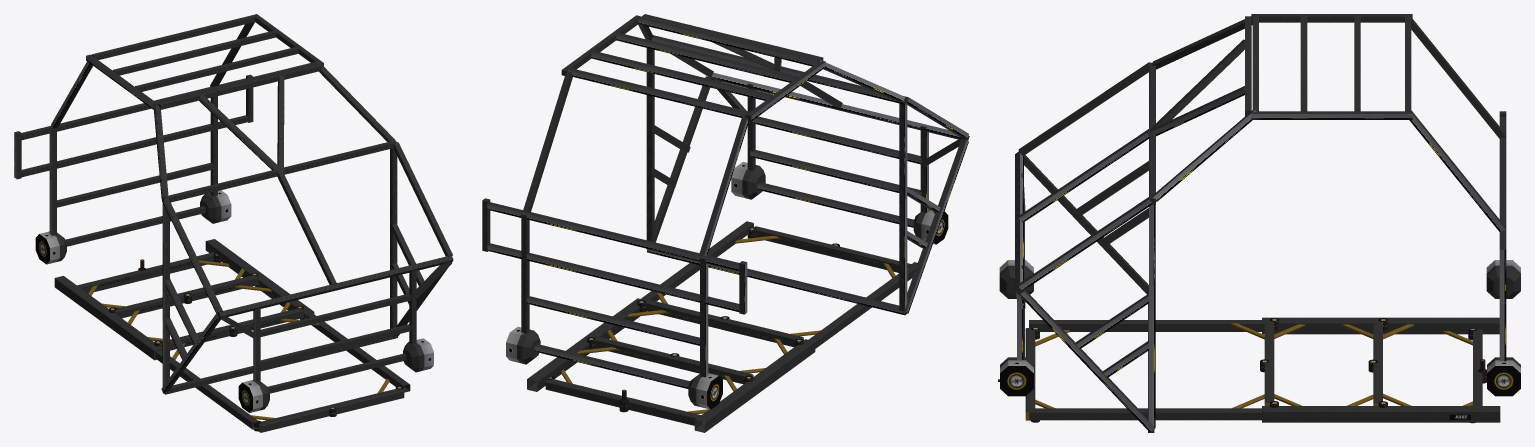
Rendered from protoV2.fbx.
The picture shows the model from 3 angles, left to right: view 1: azimuth 30°, elevation 25°; view 2: azimuth 150°, elevation 25°; view 3: azimuth 270°, elevation 25°; orthographic projection. The views are drawn at different scales.
Visible parts, largest first — view 1: pCube8 (×4), pCube7 (×4), pCube537 (×2), pCube6, pCube547, pCube576, pCube559, pCube5, pCube538 (×2), pCube558, pCube557, pCube550 (+29 smaller); view 2: pCube8 (×4), pCube7 (×4), pCube539 (×2), pCube6, pCube551, pCube559, pCube538 (×2), pCube550, pCube566, pCube547, pCube5, pCube535 (×2) (+25 smaller); view 3: pCube5, pCube6, pCube67, pCube537 (×2), pCube535 (×2), pCube539 (×2), pCube68, pCube540, pCube549, pCube583, pCube541, pCube15 (+17 smaller).
Part boxes in pixels (x1,y1,x2,y2): pCube8 (×4): (144,252,404,414); pCube7 (×4): (77,270,331,432); pCube537 (×2): (162,142,452,314); pCube6: (54,276,162,360); pCube547: (217,255,453,318); pCube576: (162,141,397,202); pCube559: (19,115,251,177); pCube5: (205,239,314,319); pCube538 (×2): (49,96,217,235); pCube558: (112,30,276,75); pCube557: (135,47,298,91); pCube550: (162,198,169,386); pCube8 (×4): (545,226,834,407); pCube7 (×4): (627,245,911,425); pCube539 (×2): (523,71,748,256); pCube6: (694,339,815,432); pCube551: (487,202,739,270); pCube559: (487,243,739,311); pCube538 (×2): (521,214,708,377); pCube550: (899,103,907,311); pCube566: (647,249,907,315); pCube547: (707,72,969,140); pCube5: (527,298,646,391); pCube535 (×2): (561,15,825,121); pCube5: (1262,406,1500,422); pCube6: (1262,317,1499,334); pCube67: (1029,408,1261,420); pCube537 (×2): (1018,62,1152,290); pCube535 (×2): (1251,14,1412,119); pCube539 (×2): (1409,18,1505,231); pCube68: (1029,320,1261,331); pCube540: (1019,290,1154,432); pCube549: (1149,196,1155,428); pCube583: (1018,129,1149,222); pCube541: (1023,155,1148,294); pCube15: (1000,357,1033,396).
Size of what is drawn, in the model's own units: 102 by 109 by 162.
